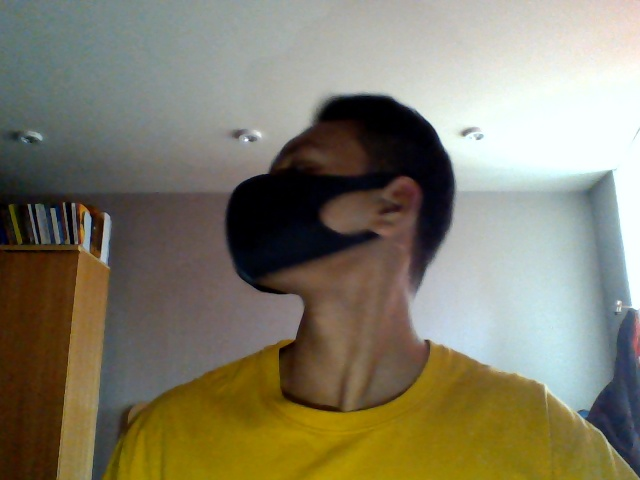mask: (225, 170, 356, 299)
